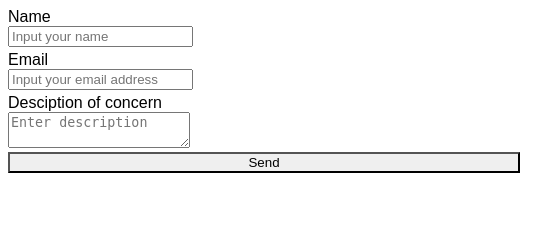
Scenario: Contact Form Component › contact form email validation
Type "test" into the field with placeholder "Input your email address". click: (100, 80)
box: [8, 69, 193, 90]
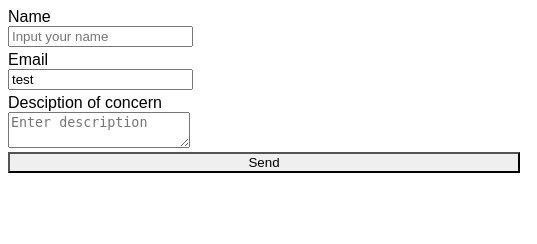
Submit the form with test id "box.contactform.form"
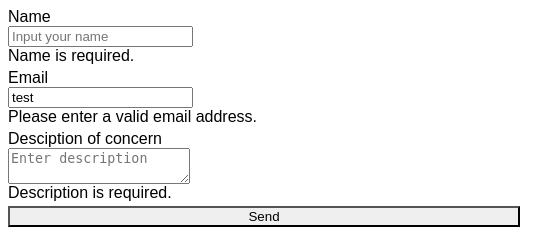
Check: the text "Please enter a valid email address." is shown, box [8, 108, 257, 125]
